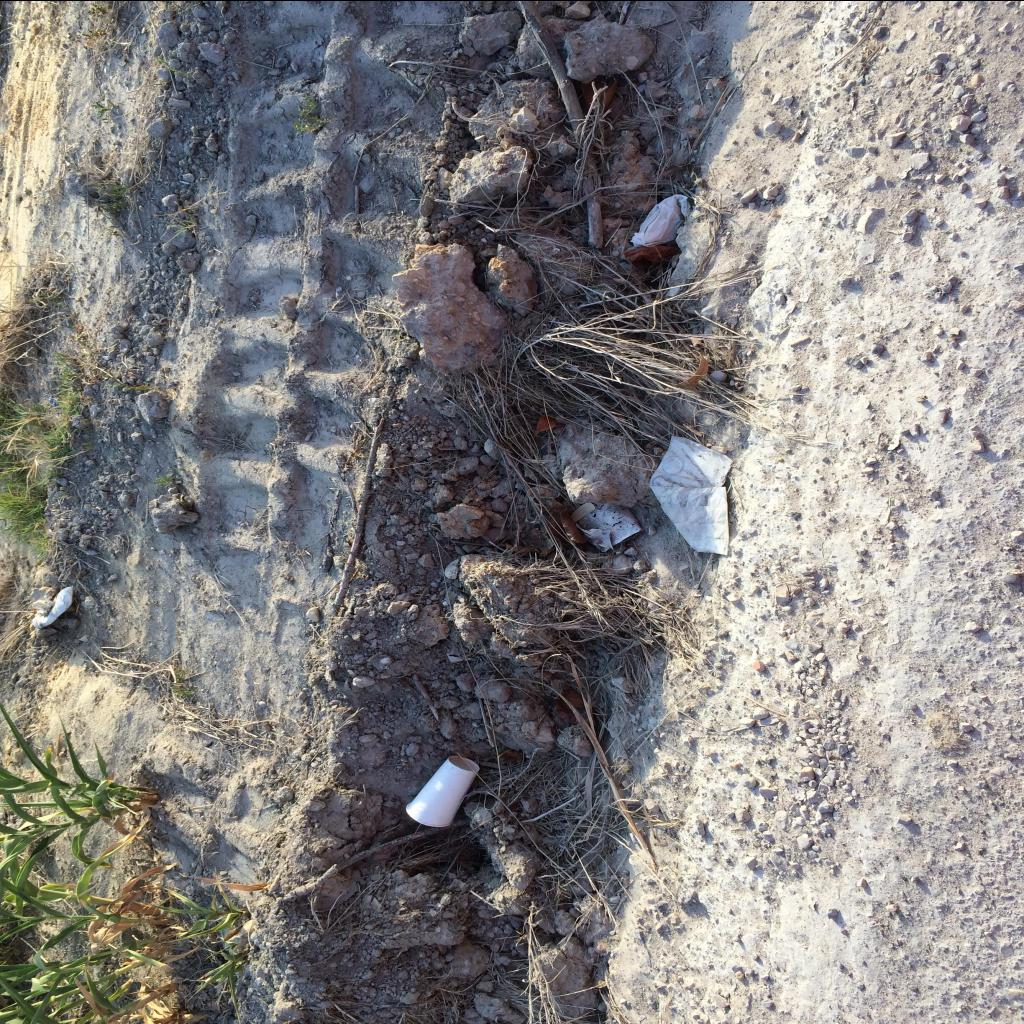Cigarette: (712, 445, 728, 453)
Other carton: (569, 500, 643, 552)
Other plastic: (650, 436, 734, 555)
Paper cup: (406, 754, 480, 826)
Unlabeled litter: (632, 194, 692, 246), (48, 395, 60, 405)
